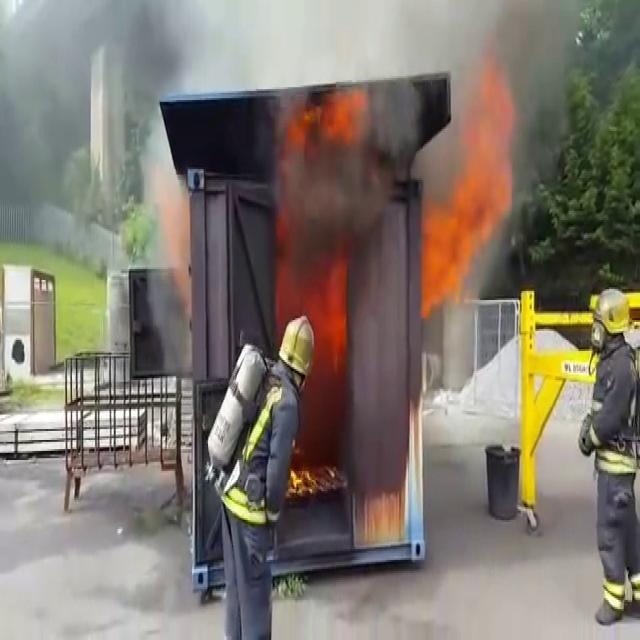Smoke: (284, 76, 393, 222)
